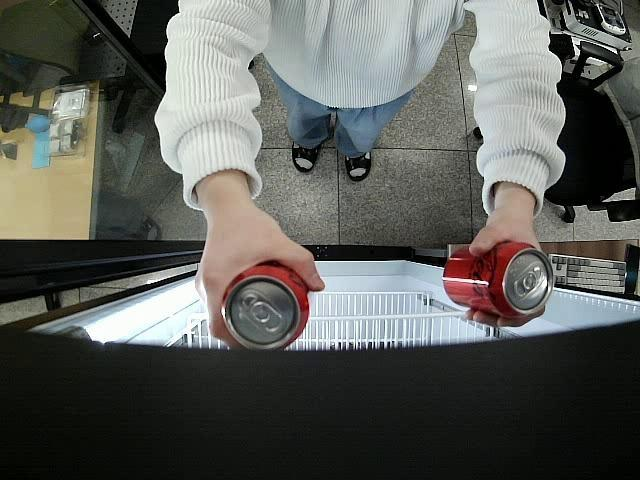11_cocaColaZero: (443, 241, 554, 320), (220, 264, 310, 350)
